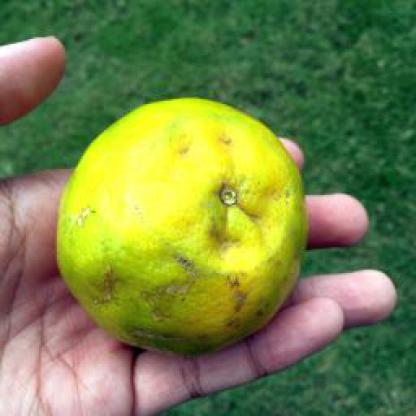orange_rotten: (53, 93, 309, 354)
